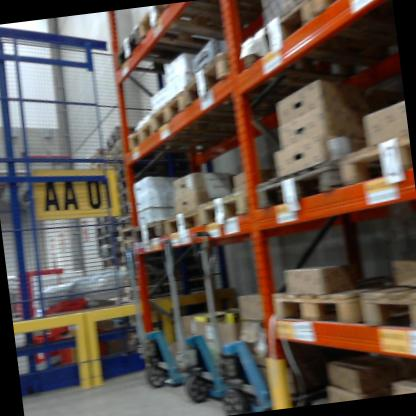pallet: (272, 282, 360, 344), (237, 10, 316, 73), (255, 155, 340, 210), (337, 136, 412, 190), (148, 89, 222, 136), (361, 276, 416, 339), (183, 52, 239, 110), (311, 0, 383, 43), (118, 26, 170, 80), (142, 18, 205, 56), (198, 186, 250, 222), (161, 206, 202, 237), (131, 218, 165, 245), (126, 118, 154, 150)
pallet_truck: (191, 226, 270, 416), (158, 237, 222, 408), (123, 240, 181, 397)
small_load_carrier: (52, 323, 107, 374), (23, 328, 56, 364)
